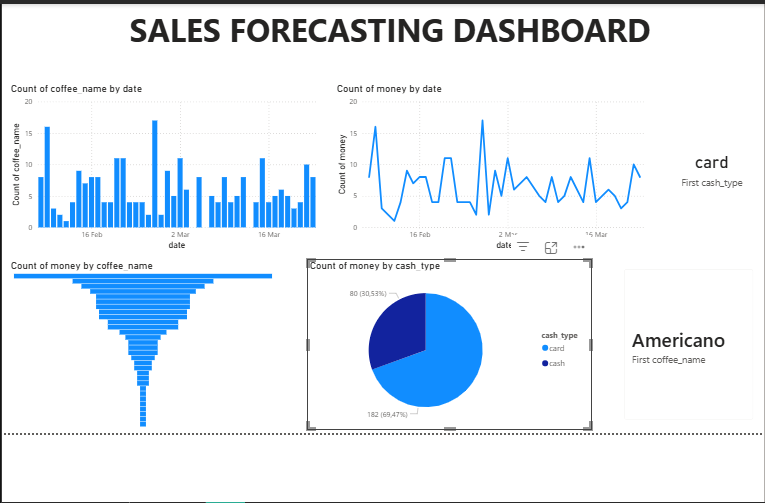

The dashboard page shown, as its layout file describes it:
{"tool":"powerbi","page":{"name":"Page 1","canvas":[1280,720],"ordinal":0},"visuals":[{"type":"clusteredColumnChart","fields":{"Category":["index_2.date"],"Y":["CountNonNull(index_2.coffee_name)"]},"box":[10.1,131,537.5,287.2],"z":0},{"type":"funnel","fields":{"Category":["index_2.coffee_name"],"Y":["CountNonNull(index_2.money)"]},"box":[10.1,428.3,453.5,287.2],"z":1},{"type":"lineChart","fields":{"Category":["index_2.date"],"Y":["CountNonNull(index_2.money)"]},"box":[558,131,538,287],"z":2},{"type":"pieChart","fields":{"Category":["index_2.cash_type"],"Y":["CountNonNull(index_2.money)"]},"box":[512.3,428.3,478.7,287.2],"z":3},{"type":"card","fields":{"Values":["Min(index_2.cash_type)"]},"box":[1106,131,174,287],"z":4},{"type":"cardVisual","fields":{"Data":["Min(index_2.coffee_name)"]},"box":[1028,428.3,252,287.2],"z":5},{"type":"textbox","box":[23.5,0,1256.5,109.2],"z":6}]}

Visuals, with their boxes on the page's 1280x720 design canvas (x1, y1, x2, y2). These are canvas units, not pixel positions in the 765x503 screenshot, which may show the page scaled, cropped or inside an application window:
clusteredColumnChart - index_2.date x CountNonNull(index_2.coffee_name): 10 131 548 418
funnel - index_2.coffee_name x CountNonNull(index_2.money): 10 428 464 716
lineChart - index_2.date x CountNonNull(index_2.money): 558 131 1096 418
pieChart - index_2.cash_type x CountNonNull(index_2.money): 512 428 991 716
card - Min(index_2.cash_type): 1106 131 1280 418
cardVisual - Min(index_2.coffee_name): 1028 428 1280 716
textbox: 24 0 1280 109
